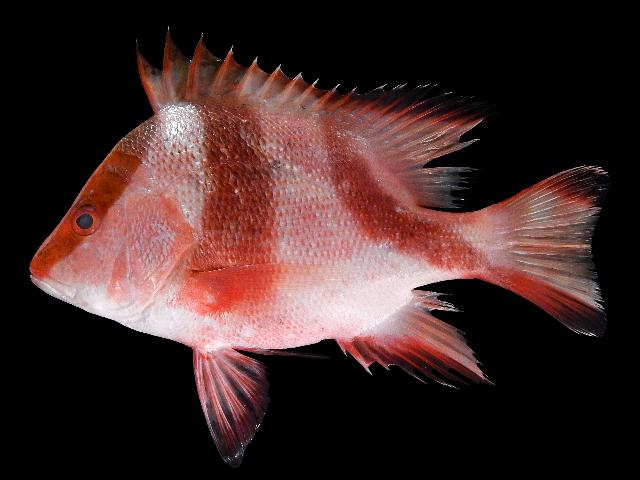Mulut: (8, 240, 96, 318)
Sirip Anal: (324, 282, 502, 401)
Sirip Dada: (161, 246, 359, 326)
Sirip Ekor: (471, 154, 627, 348)
Sirip Perut: (184, 338, 316, 472)
Sirip Punggung: (120, 14, 500, 214)
